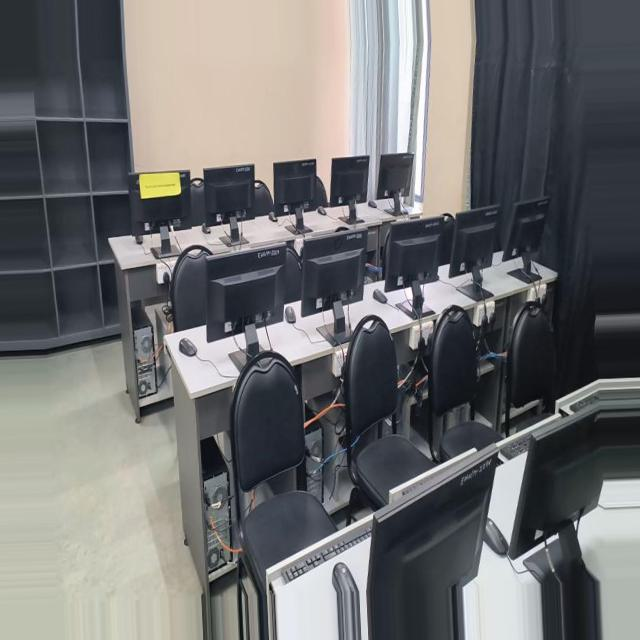Chair: (210, 354, 329, 639), (342, 317, 445, 546), (441, 309, 524, 492), (528, 306, 590, 465), (148, 228, 198, 326), (240, 153, 272, 199), (459, 201, 481, 261), (177, 148, 193, 204)
Cpu: (176, 491, 210, 621), (104, 317, 127, 401), (296, 446, 317, 533)
Keyboard: (244, 550, 370, 639), (586, 403, 640, 445), (521, 466, 556, 496)
Monitor: (359, 475, 519, 639), (525, 437, 640, 609), (298, 214, 380, 346), (188, 231, 286, 340), (395, 204, 480, 313), (471, 194, 534, 286), (105, 139, 178, 214), (191, 135, 252, 206), (273, 132, 325, 215), (534, 187, 591, 260), (338, 131, 386, 209), (390, 129, 437, 201)
Mouse: (498, 559, 526, 604), (320, 604, 350, 639), (156, 334, 176, 356), (382, 287, 399, 303), (280, 302, 292, 322), (266, 191, 276, 203), (188, 201, 198, 213), (323, 188, 333, 197), (382, 183, 392, 191), (111, 213, 119, 223)
